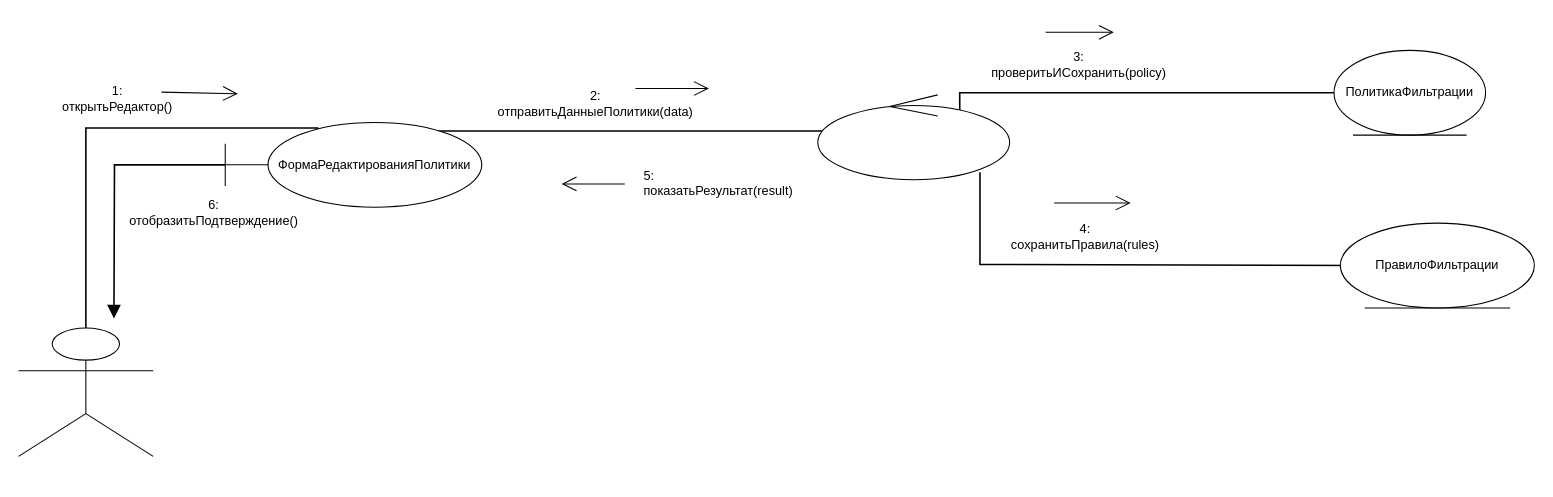
The diagram is 1553 pixels wide and 497 high, and some of its shapes have lost their labels. Each missing label, with the box of its shape:
Admin: (17, 327, 153, 456)
КонтроллерПолитик: (817, 94, 1010, 180)
